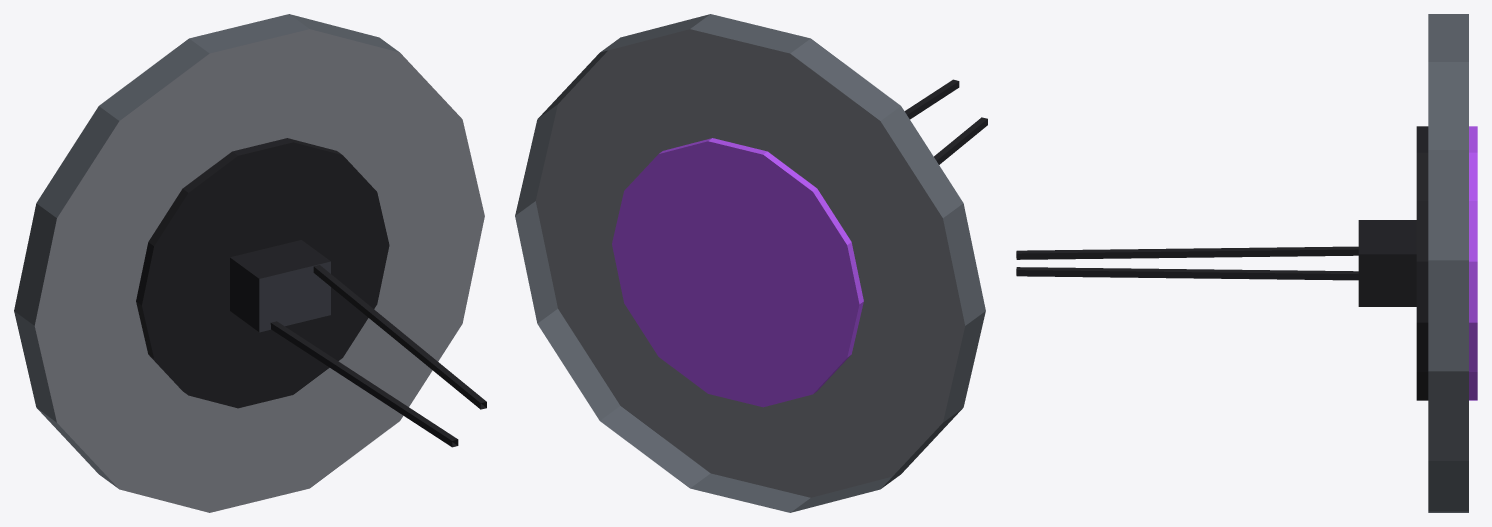
Rendered from b_lamp_lbasic.obj.
3 renders of one model, left to right at view 1: azimuth 30°, elevation 25°; view 2: azimuth 150°, elevation 25°; view 3: azimuth 270°, elevation 25°, orthographic.
Bounding box in the file's own units: 0.88 × 0.858 × 0.7953.
1 material, 1 textured.
